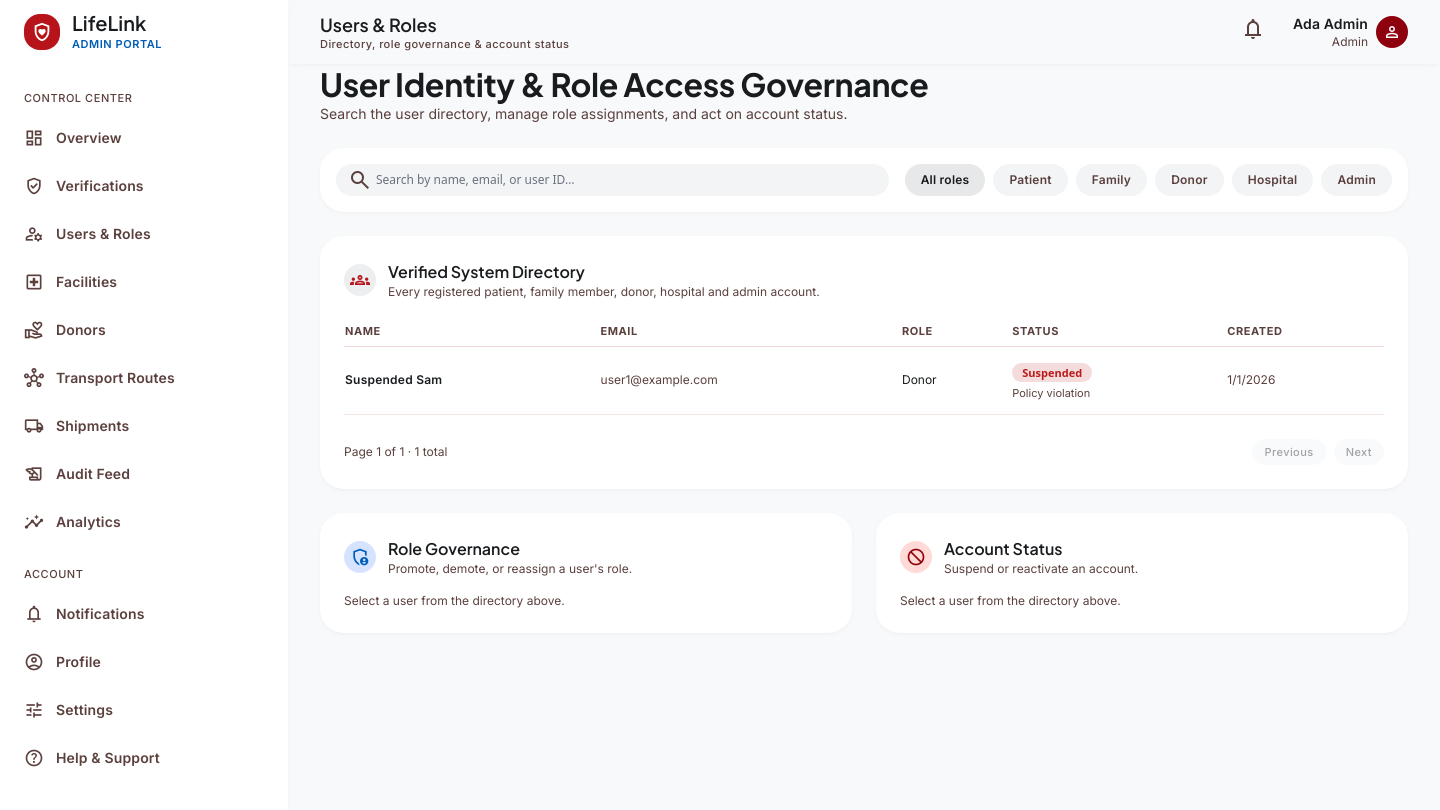
Scenario: UserManagement -- suspend/reactivate flow › opens the reactivate console (not the suspend one) when a suspended user is selected
Click the text "Suspended Sam" at (394, 380), box [344,346,600,414]
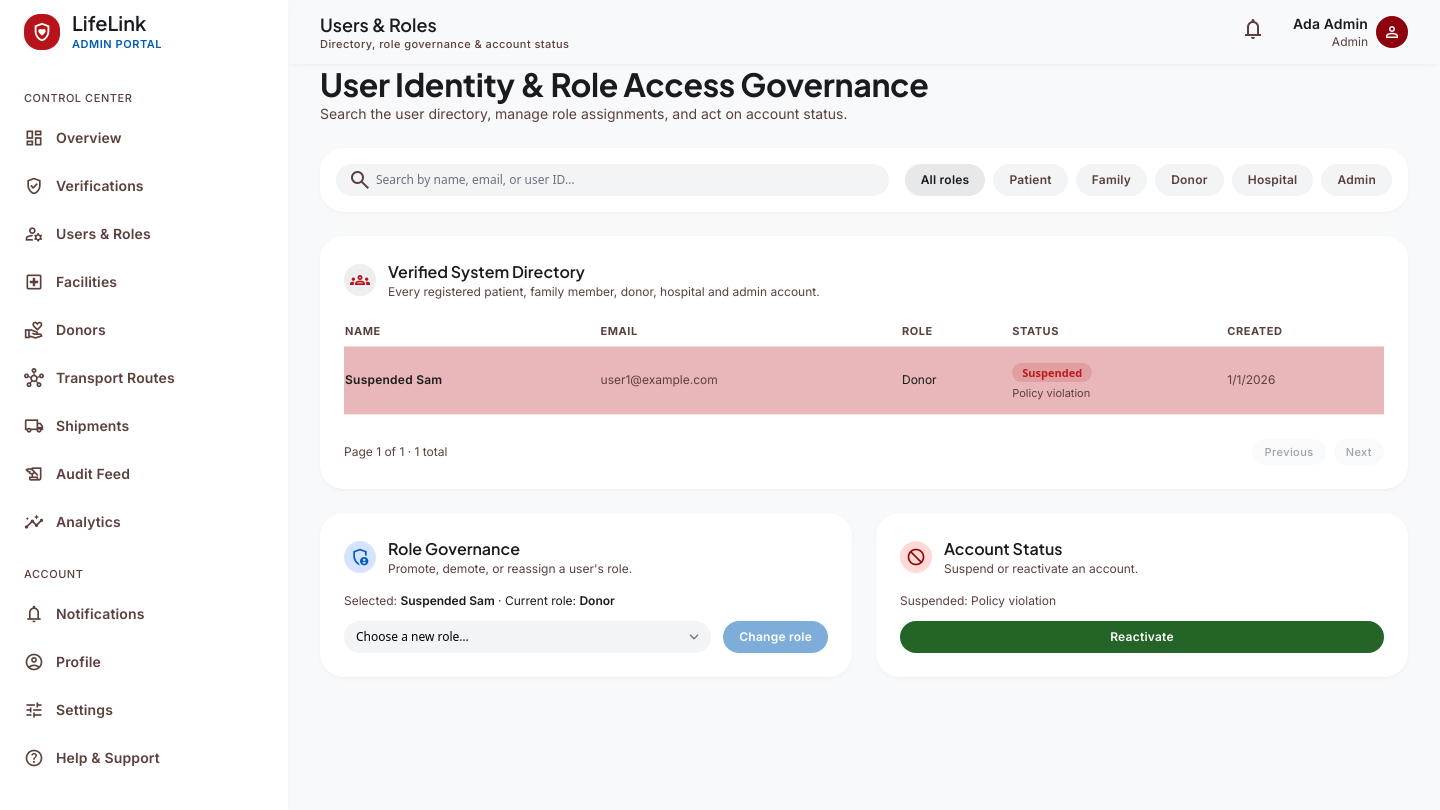
Expected: the text "Policy violation" is shown, [1012,386,1090,400]
Expected: the button "Reactivate" is shown, [900,620,1384,652]
